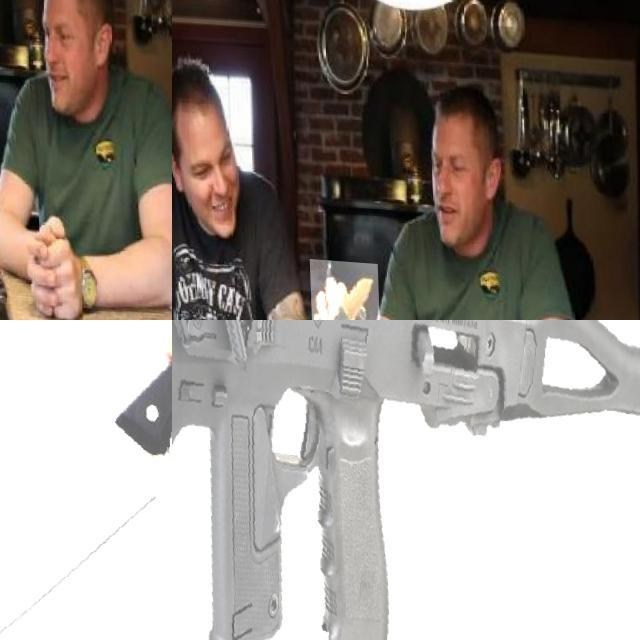-: (0, 320, 172, 640), (0, 145, 64, 242), (307, 254, 378, 320)
gun-knife-thesis - v11 Yolov5 augmented: (172, 320, 640, 640)
